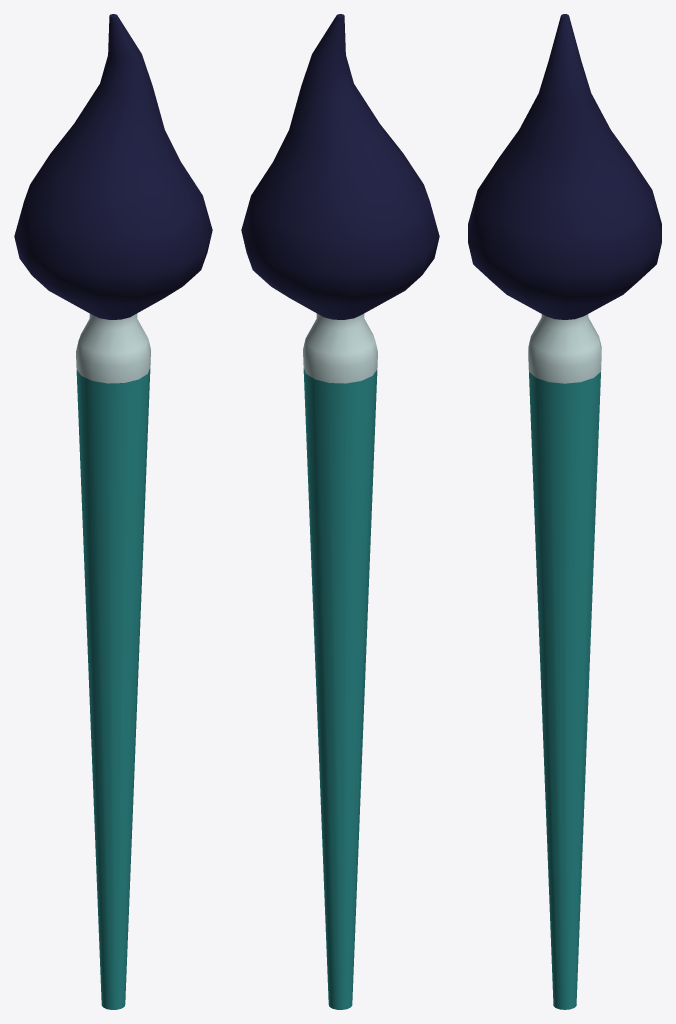
Rendered from SM_Brush.FBX.
The picture shows the model from 3 angles, left to right: view 1: azimuth 30°, elevation 25°; view 2: azimuth 150°, elevation 25°; view 3: azimuth 270°, elevation 25°; orthographic projection.
Parts seen in each view (by area): view 1: SM_Brush; view 2: SM_Brush; view 3: SM_Brush.
Boxes of the visible parts, x1,y1,x2,y2 form: SM_Brush: (14,14,212,1009); SM_Brush: (241,14,439,1009); SM_Brush: (468,14,661,1009).
Size of what is drawn, in the model's own units: 48.16 by 264 by 46.95.
